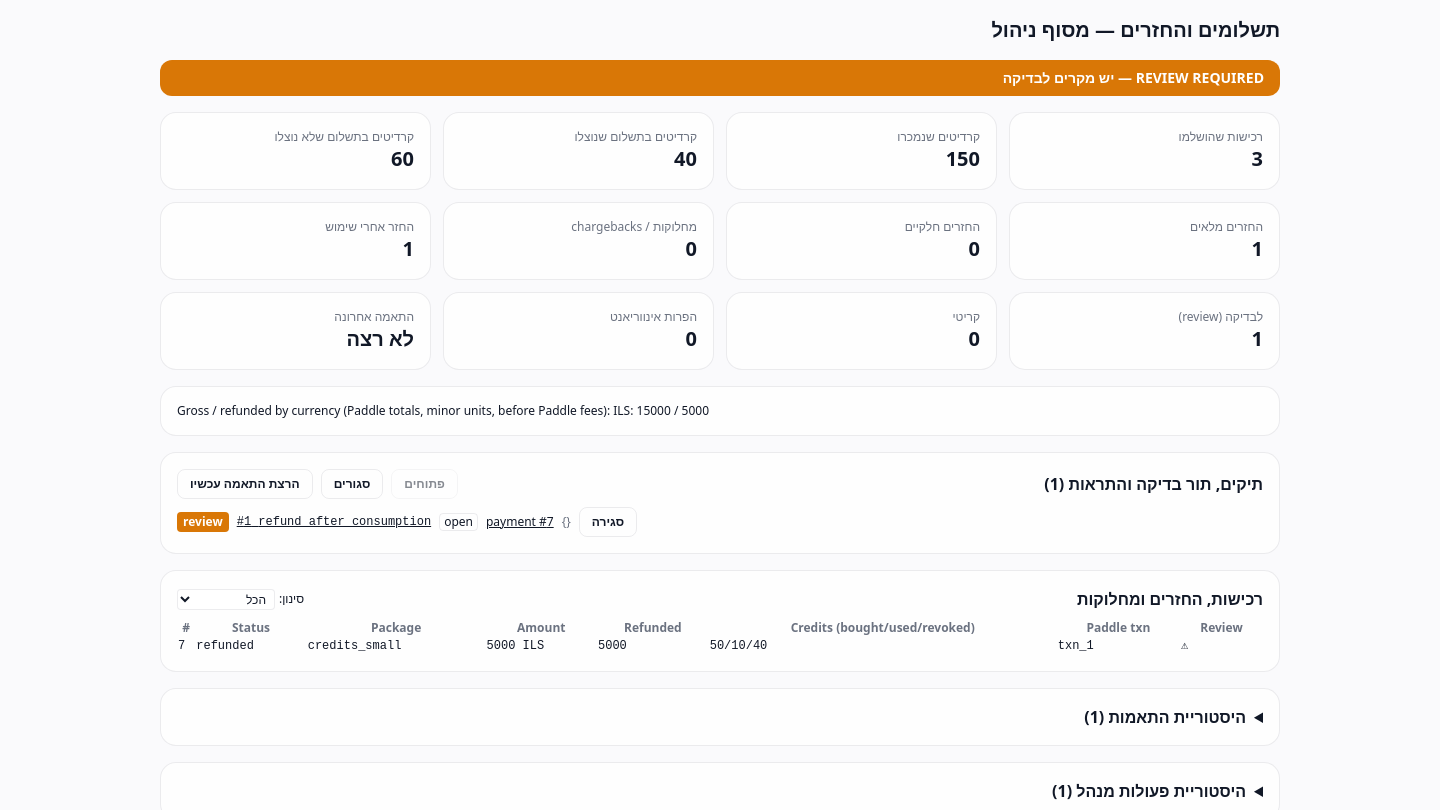
Scenario: reasons are asked in the page, never with window.prompt (embedded browsers may block it) › cancel sends nothing
Click the button "הרצת התאמה עכשיו" at (245, 484), box [177, 469, 313, 499]
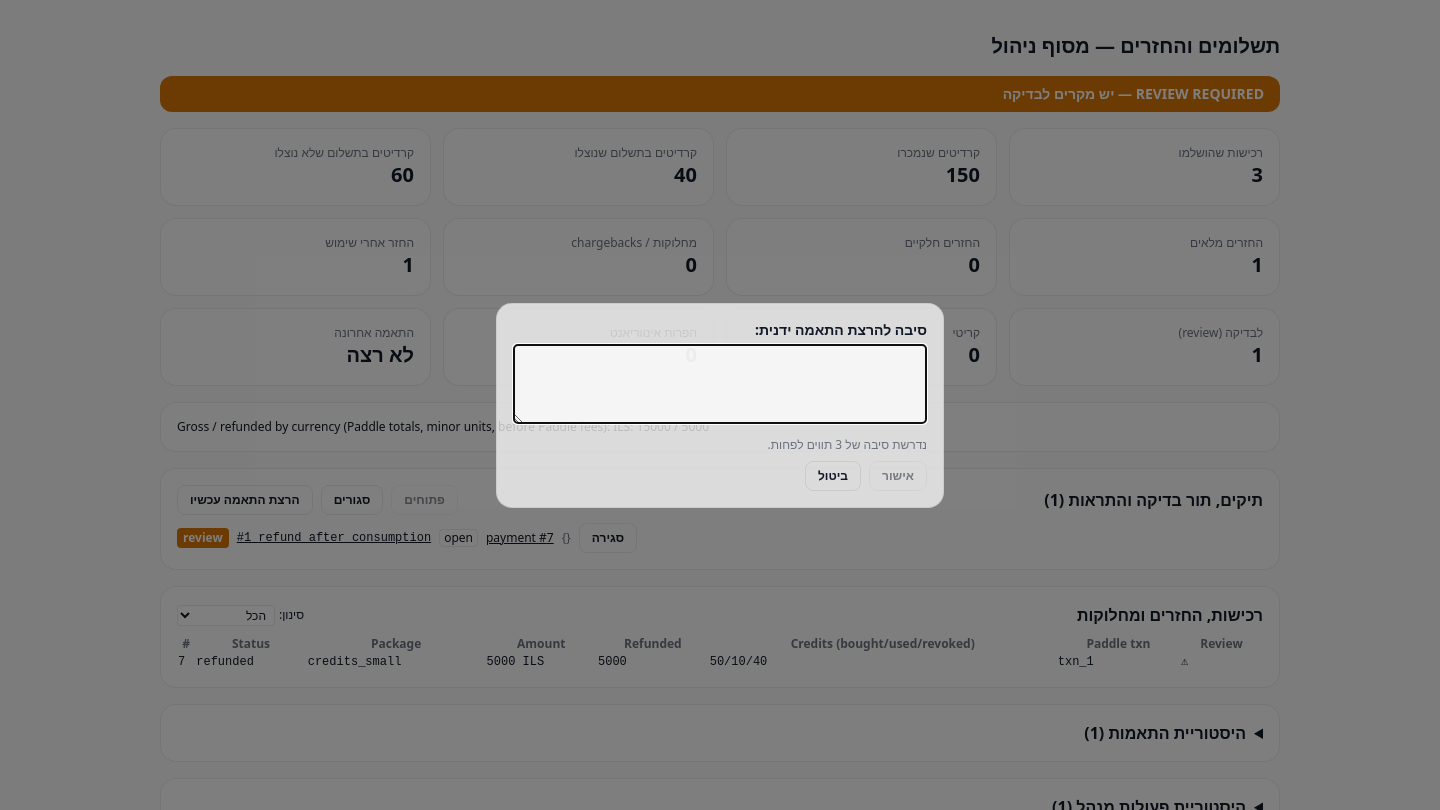
Now the dialog "סיבה להרצת התאמה ידנית:" is shown, box [496, 302, 944, 508]
Type "not today" into the text box labelled "סיבה" at (720, 384), box [513, 344, 927, 424]
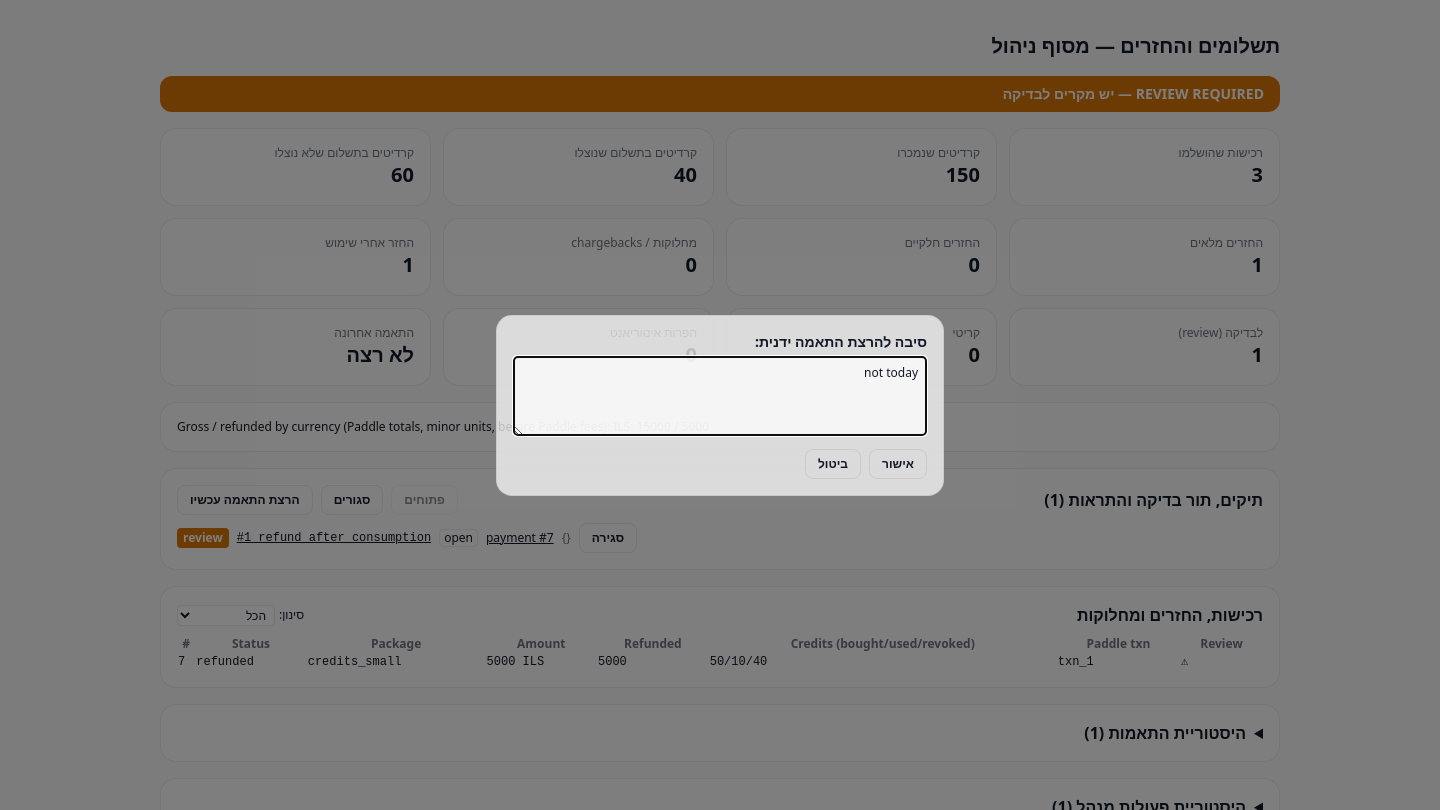
Click the button "ביטול" at (833, 464), box [805, 448, 861, 478]
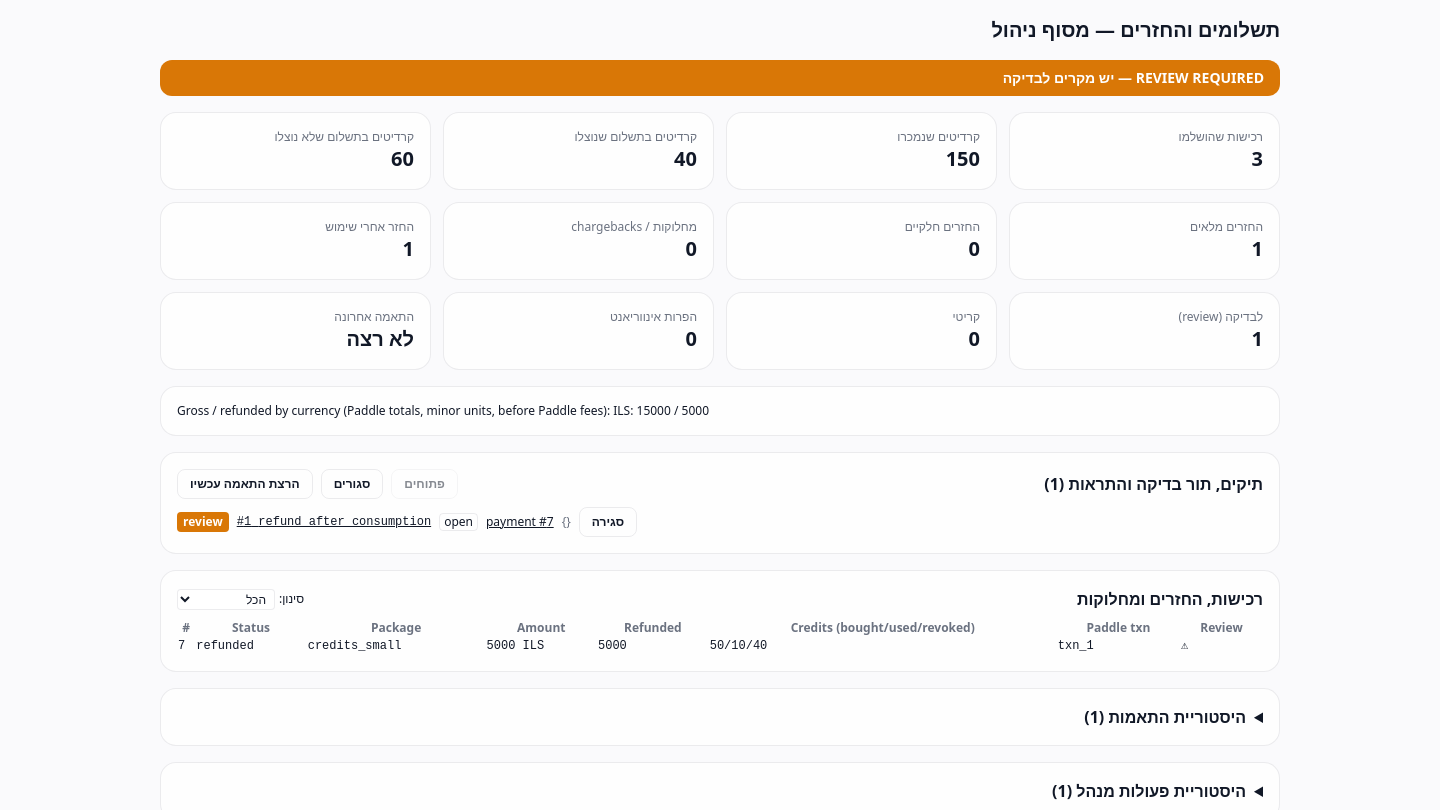
Now the dialog is gone
